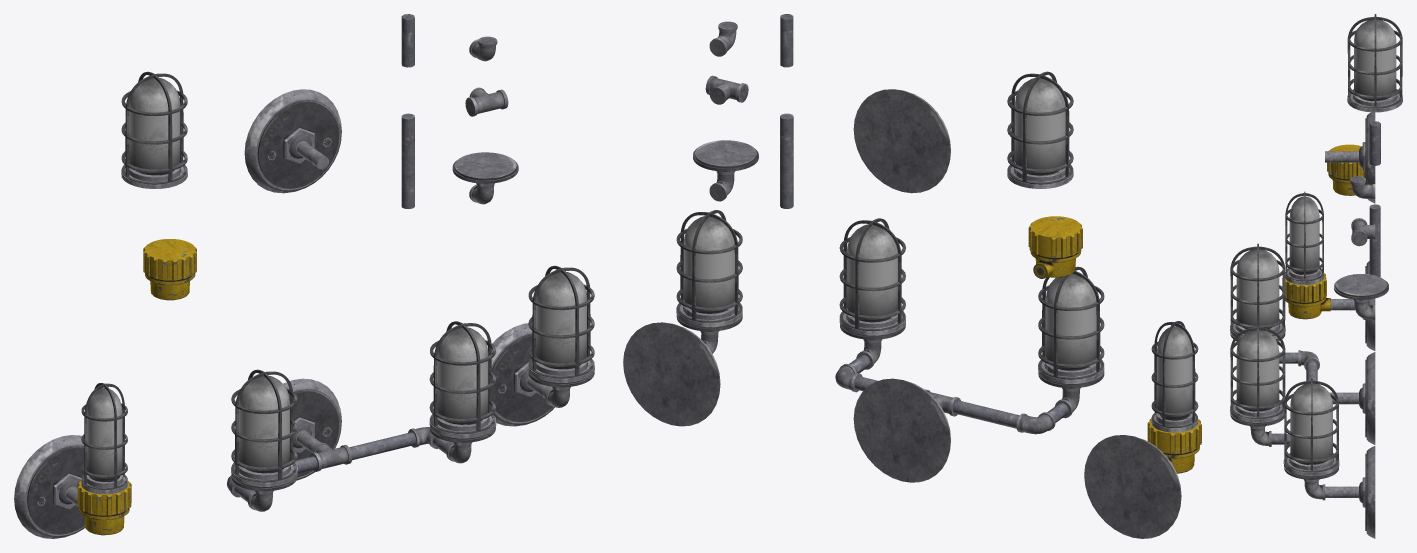
Rendered from industrial_caged_sconce.glb.
3 views of the same model, side by side, from view 1: azimuth 30°, elevation 25°; view 2: azimuth 150°, elevation 25°; view 3: azimuth 270°, elevation 25° (orthographic). The views are drawn at different scales.
Parts seen in each view (by area): view 1: industrial_caged_sconce_c, industrial_caged_sconce_b, industrial_caged_sconce_a, industrial_caged_sconce_mount, industrial_caged_sconce_light, industrial_caged_sconce_base_a, industrial_caged_sconce_base_b, industrial_caged_sconce_pipe_long, industrial_caged_sconce_pipe_t, industrial_caged_sconce_pipe_short; view 2: industrial_caged_sconce_c, industrial_caged_sconce_a, industrial_caged_sconce_b, industrial_caged_sconce_mount, industrial_caged_sconce_light, industrial_caged_sconce_base_a, industrial_caged_sconce_base_b, industrial_caged_sconce_pipe_long, industrial_caged_sconce_pipe_t, industrial_caged_sconce_pipe_short; view 3: industrial_caged_sconce_c, industrial_caged_sconce_a, industrial_caged_sconce_b, industrial_caged_sconce_light, industrial_caged_sconce_base_b, industrial_caged_sconce_mount, industrial_caged_sconce_base_a, industrial_caged_sconce_pipe_long, industrial_caged_sconce_pipe_t, industrial_caged_sconce_pipe_short, industrial_caged_sconce_elbow.
Boxes of the visible parts, <box> form: industrial_caged_sconce_c: <box>227,321,496,511</box>; industrial_caged_sconce_b: <box>14,383,131,538</box>; industrial_caged_sconce_a: <box>491,265,594,426</box>; industrial_caged_sconce_mount: <box>244,89,341,193</box>; industrial_caged_sconce_light: <box>121,71,187,188</box>; industrial_caged_sconce_base_a: <box>143,239,196,300</box>; industrial_caged_sconce_base_b: <box>452,152,518,204</box>; industrial_caged_sconce_pipe_long: <box>401,113,414,208</box>; industrial_caged_sconce_pipe_t: <box>465,87,508,116</box>; industrial_caged_sconce_pipe_short: <box>401,14,414,67</box>; industrial_caged_sconce_c: <box>835,218,1104,482</box>; industrial_caged_sconce_a: <box>623,210,742,426</box>; industrial_caged_sconce_b: <box>1084,321,1201,538</box>; industrial_caged_sconce_mount: <box>853,89,950,193</box>; industrial_caged_sconce_light: <box>1007,71,1073,188</box>; industrial_caged_sconce_base_a: <box>1028,216,1082,278</box>; industrial_caged_sconce_base_b: <box>693,140,758,201</box>; industrial_caged_sconce_pipe_long: <box>780,113,793,208</box>; industrial_caged_sconce_pipe_t: <box>705,75,748,104</box>; industrial_caged_sconce_pipe_short: <box>780,14,793,67</box>; industrial_caged_sconce_c: <box>1230,243,1375,446</box>; industrial_caged_sconce_a: <box>1283,378,1375,538</box>; industrial_caged_sconce_b: <box>1282,191,1375,350</box>; industrial_caged_sconce_light: <box>1347,14,1402,112</box>; industrial_caged_sconce_base_b: <box>1334,274,1388,320</box>; industrial_caged_sconce_mount: <box>1325,110,1375,203</box>; industrial_caged_sconce_base_a: <box>1327,144,1365,195</box>; industrial_caged_sconce_pipe_long: <box>1369,204,1380,277</box>; industrial_caged_sconce_pipe_t: <box>1351,218,1375,246</box>; industrial_caged_sconce_pipe_short: <box>1369,121,1380,165</box>; industrial_caged_sconce_elbow: <box>1350,176,1375,199</box>.
Bounding box in the file's own units: 1.21 × 0.9128 × 0.3894.
1 material, 1 textured.
